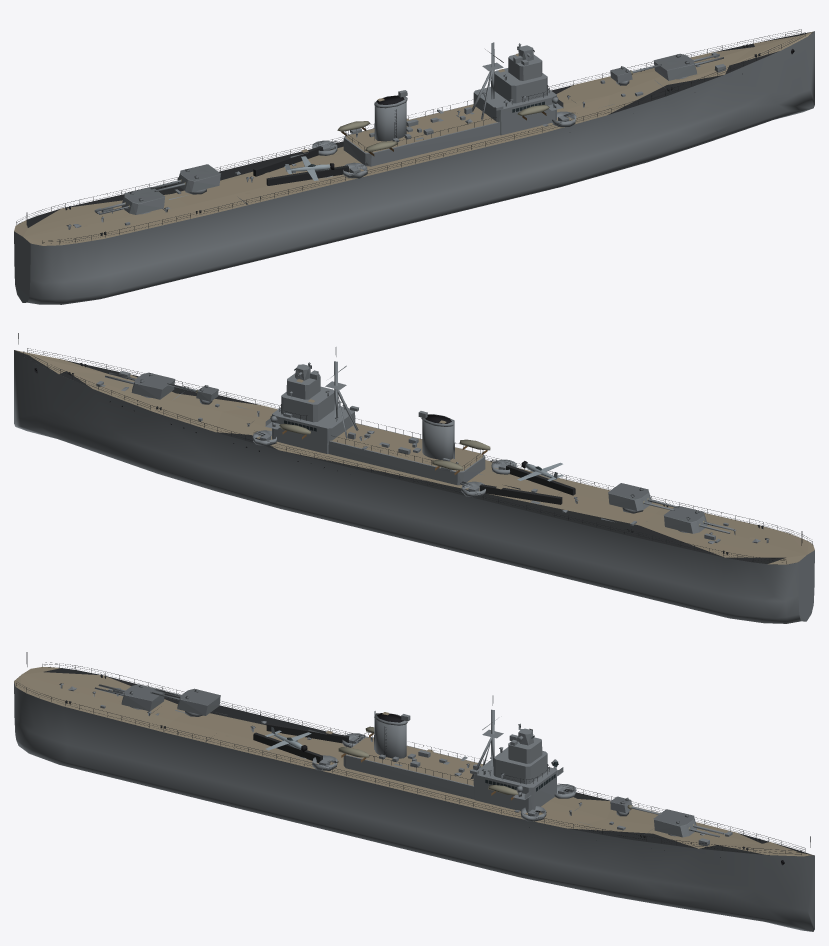
Rendered from de_ruyter_lod.glb.
3 views of the same model, one above another, from view 1: azimuth 30°, elevation 25°; view 2: azimuth 150°, elevation 25°; view 3: azimuth 330°, elevation 25° (orthographic).
Visible parts, largest first — view 1: de_ruyter_lod; view 2: de_ruyter_lod; view 3: de_ruyter_lod.
Part boxes in pixels (box(x1,y1,x2,y2)): de_ruyter_lod: box(14, 29, 814, 304); de_ruyter_lod: box(14, 333, 814, 623); de_ruyter_lod: box(14, 652, 814, 931).
Size of the model in its own units: 171 by 33 by 17.35.
